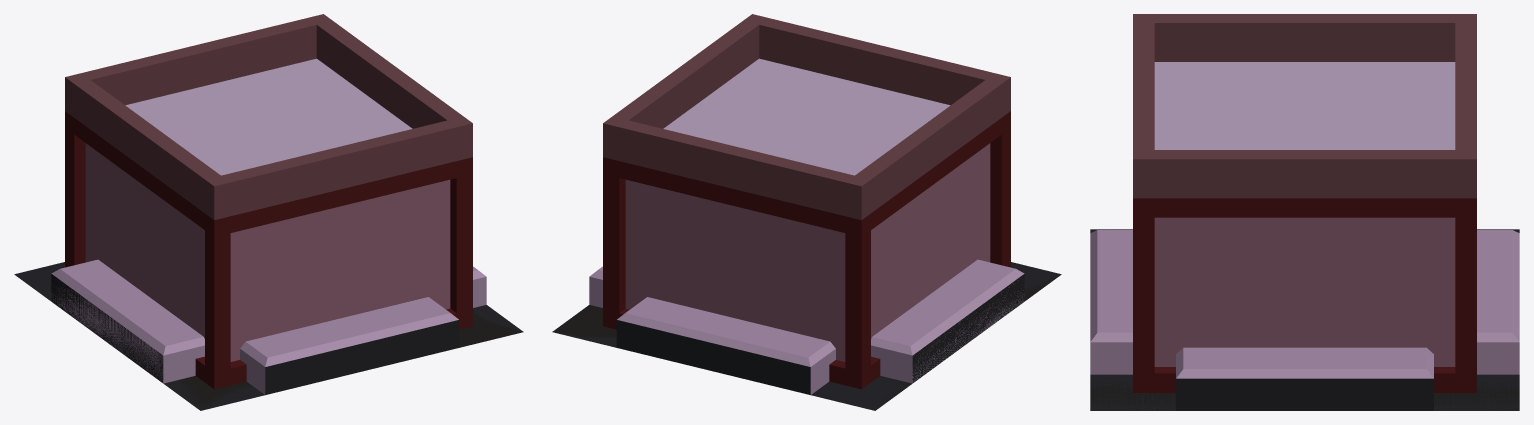
File: Level Pieces.fbx
The picture shows the model from 3 angles, left to right: view 1: azimuth 30°, elevation 25°; view 2: azimuth 150°, elevation 25°; view 3: azimuth 270°, elevation 25°; orthographic projection. The views are drawn at different scales.
Parts seen in each view (by area): view 1: Platform.002, Path_Cross, Path_End, Path_Corner, Path_T-Junction, Path_Straight; view 2: Platform.002, Path_Cross, Path_Corner, Path_T-Junction, Path_End; view 3: Platform.002, Path_Cross, Path_T-Junction, Path_Straight, Path_Corner.
Part boxes in pixels (x1,y1,x2,y2): Platform.002: (14, 14, 522, 410); Path_Cross: (14, 259, 523, 410); Path_End: (51, 269, 204, 383); Path_Corner: (66, 270, 204, 354); Path_T-Junction: (242, 268, 476, 356); Path_Straight: (247, 297, 449, 357); Platform.002: (552, 14, 1060, 410); Path_Cross: (552, 260, 1061, 410); Path_Corner: (629, 259, 1014, 364); Path_T-Junction: (590, 268, 835, 365); Path_End: (872, 280, 1024, 383); Platform.002: (1090, 14, 1519, 410); Path_Cross: (1090, 229, 1519, 410); Path_T-Junction: (1094, 230, 1512, 377); Path_Straight: (1092, 230, 1508, 342); Path_Corner: (1477, 230, 1512, 336).
Bounding box in the file's own units: 200 × 120 × 200.
